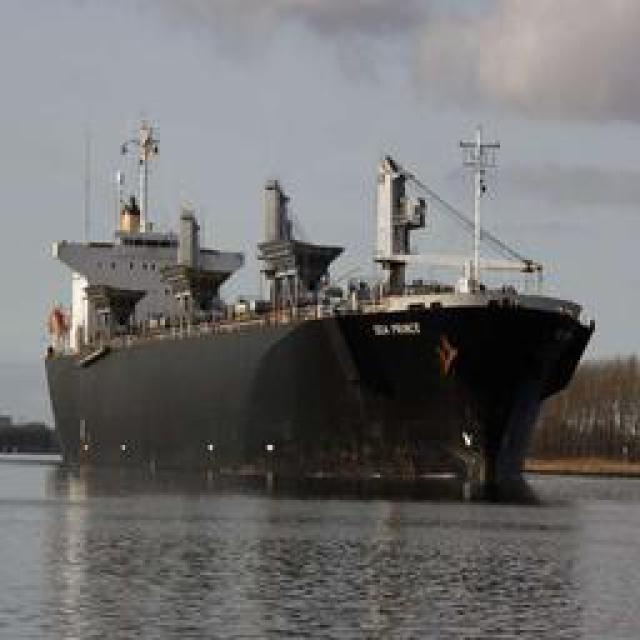Ship: (35, 89, 605, 516)
